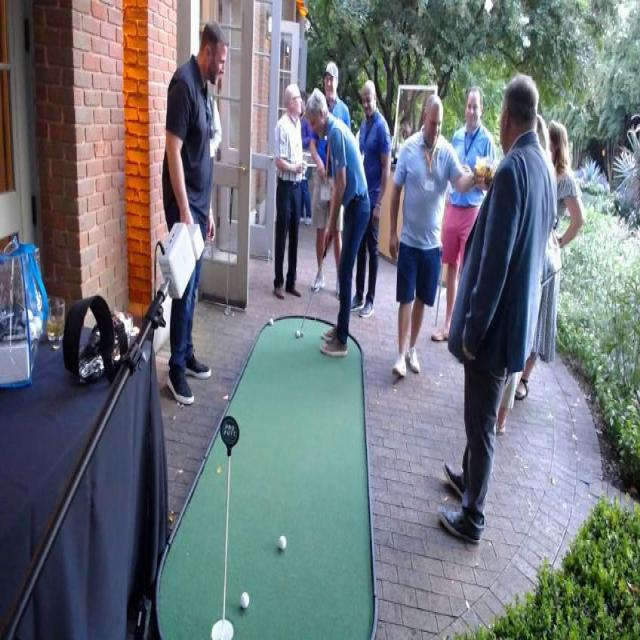GolfBall: (274, 530, 292, 558), (236, 588, 254, 610), (264, 312, 276, 329), (292, 327, 304, 340)
